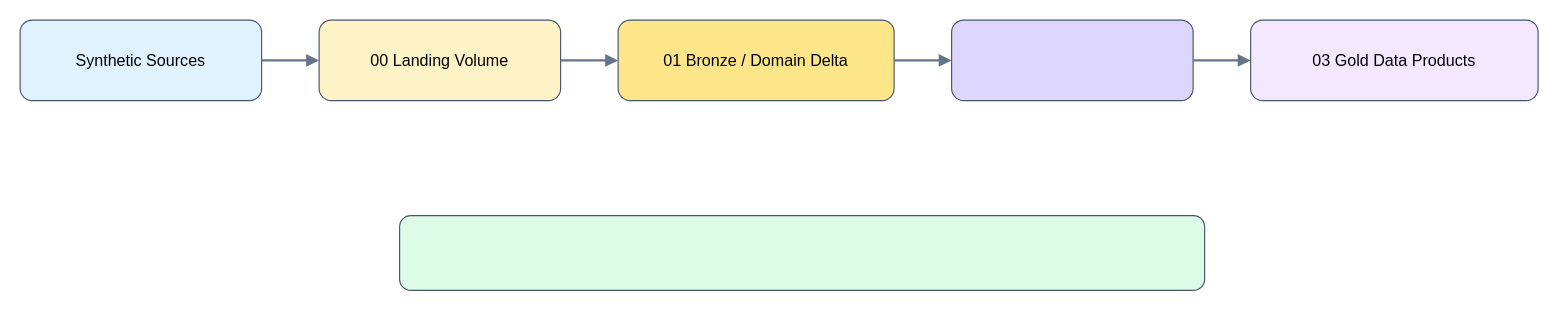
Image size: 1558x311. Some labels were removed from this diagram. Here are the shapes that lost their labels. From the top down, the centre of each, then its label:
At point 1071,60: "02 Silver".
At point 801,252: "Unity Catalog governance plane".
